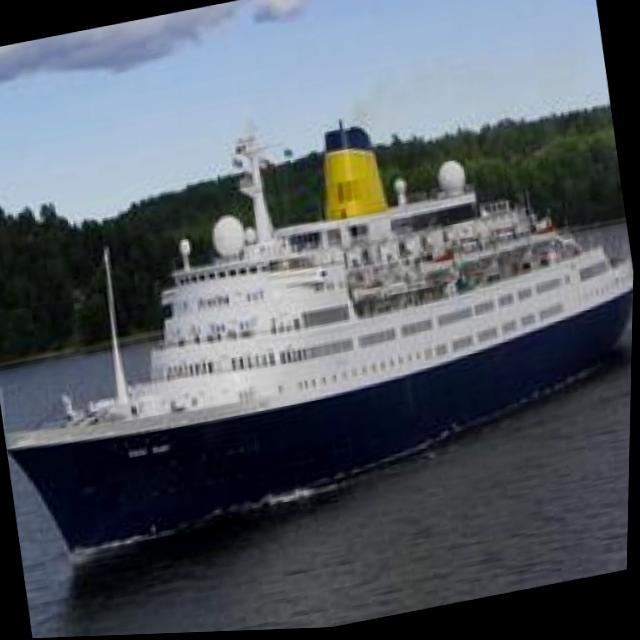ship2: (6, 130, 635, 557)
